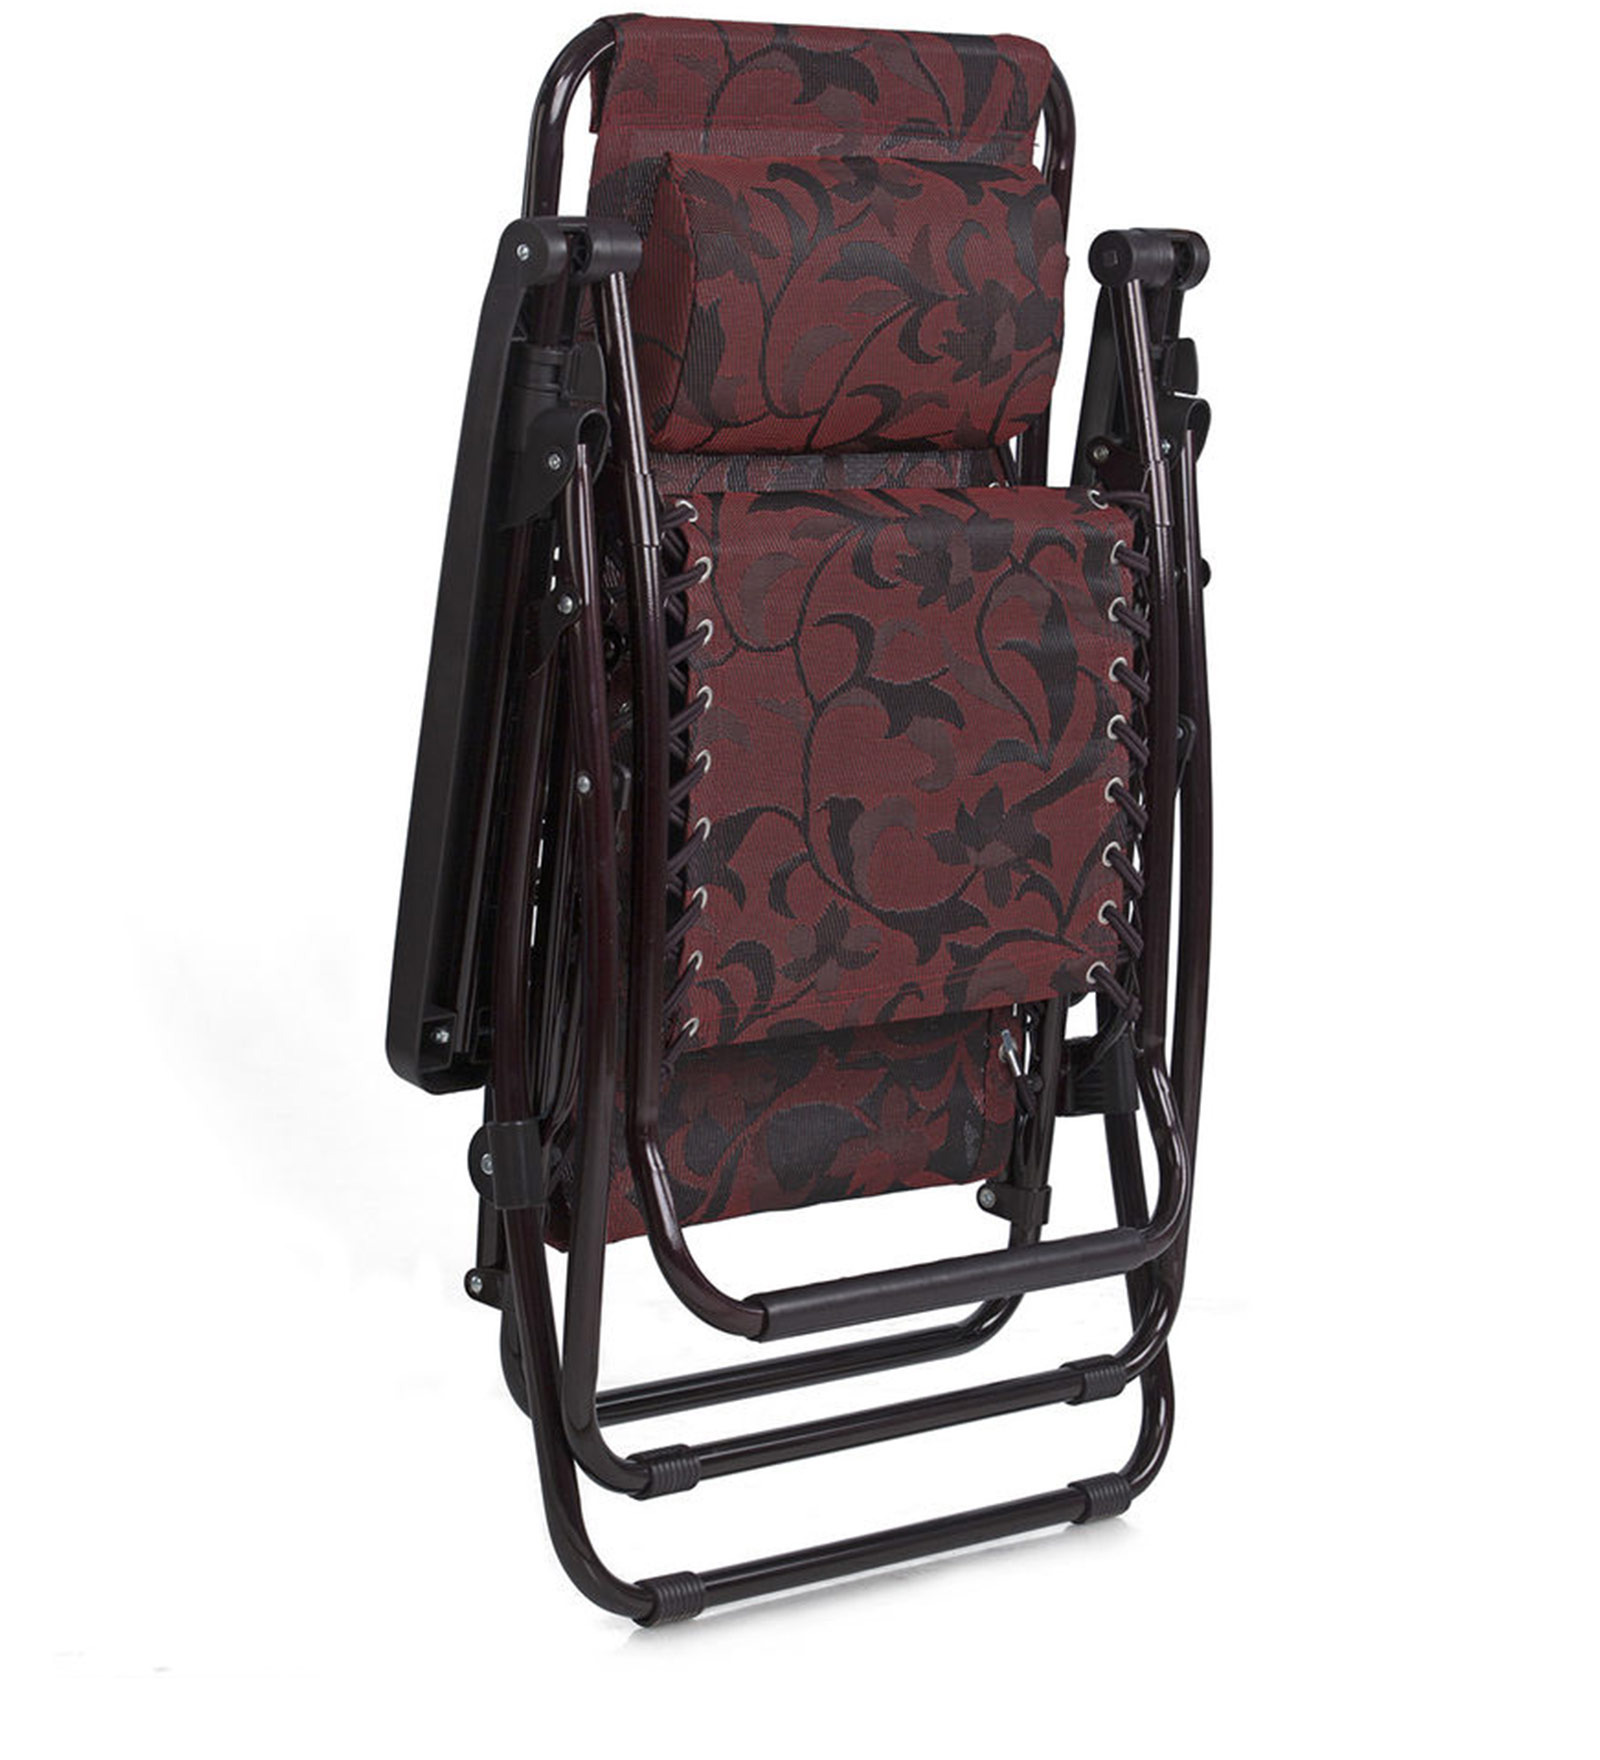Frolic Easy Foldable Chair in Purple & Red Colour by Nilkamal: (425, 2, 1255, 1656)
